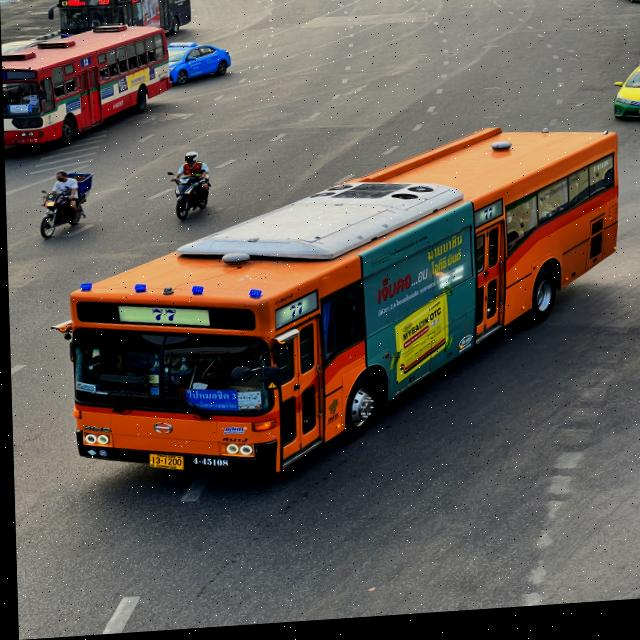BMTA-bus: (55, 135, 620, 478)
Bus Line Number: (139, 303, 186, 330), (282, 303, 307, 322), (480, 213, 496, 227)
Bus Side Number: (187, 455, 228, 474)
Destination Sign: (183, 387, 235, 419)
